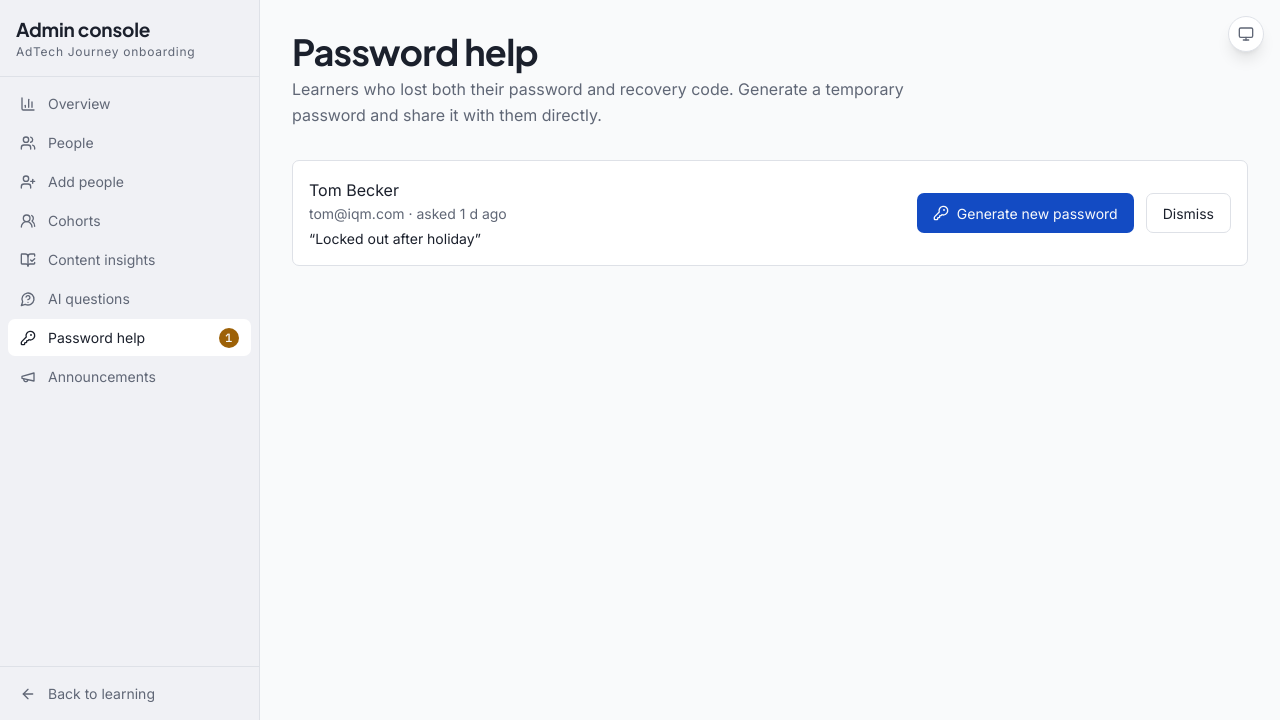
Scenario: admin console › generates a new password for someone who asked for help
Expected: the heading "Password help" is shown, [292,29,538,74]
Click the button "Generate new password": point(1025, 213) [917,193,1134,233]
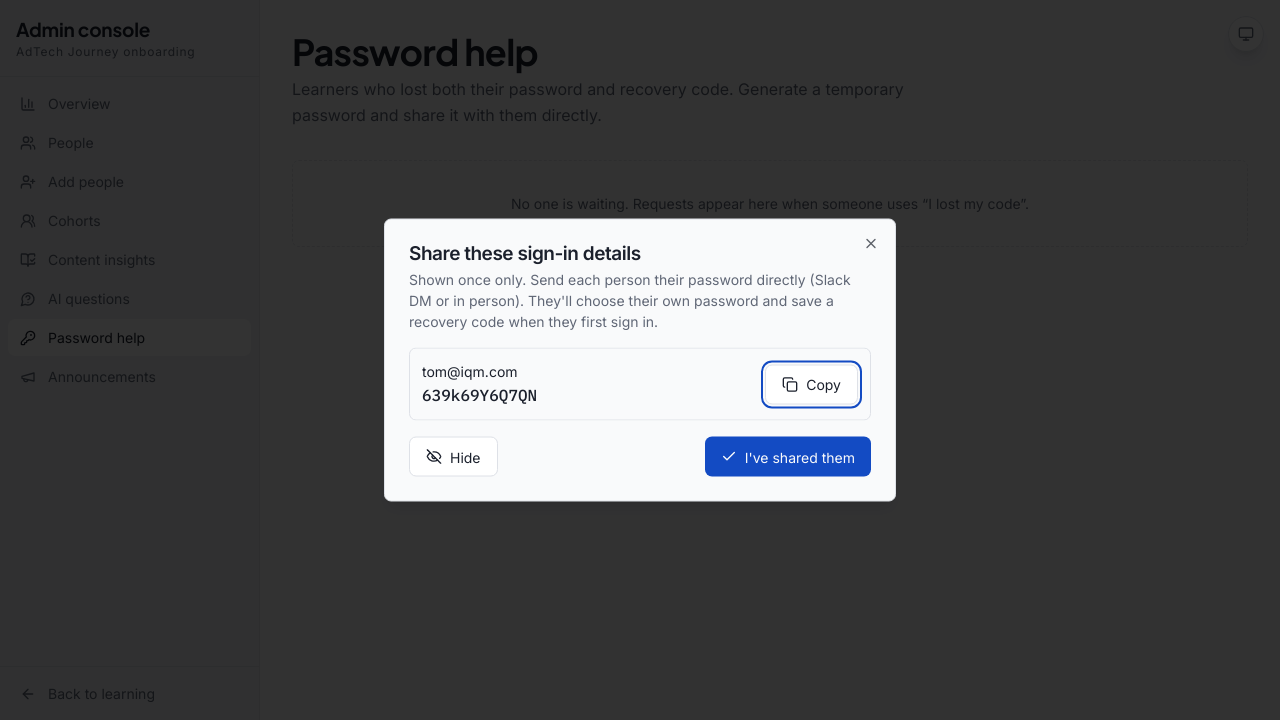
Expected: the heading "Share these sign-in details" is shown, [409,242,641,264]
